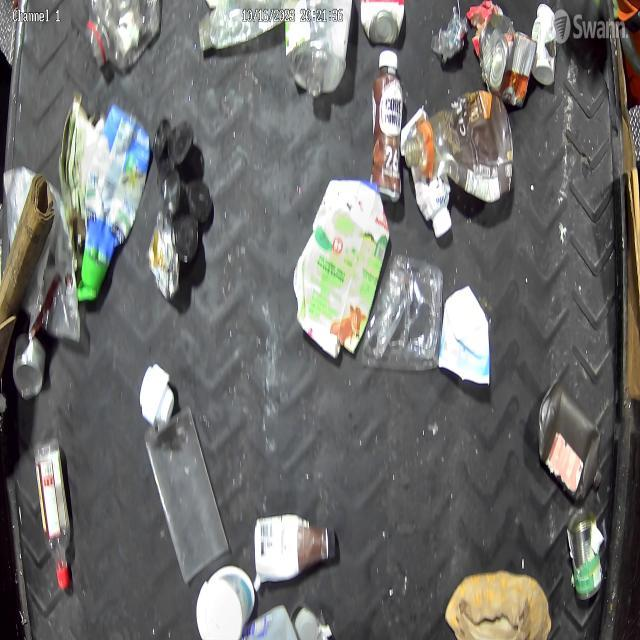can: (490, 31, 538, 108), (567, 506, 603, 604), (12, 332, 47, 402), (360, 0, 405, 45)
non_white_jug: (537, 384, 603, 507)
plastic_bottle: (197, 0, 285, 51)
